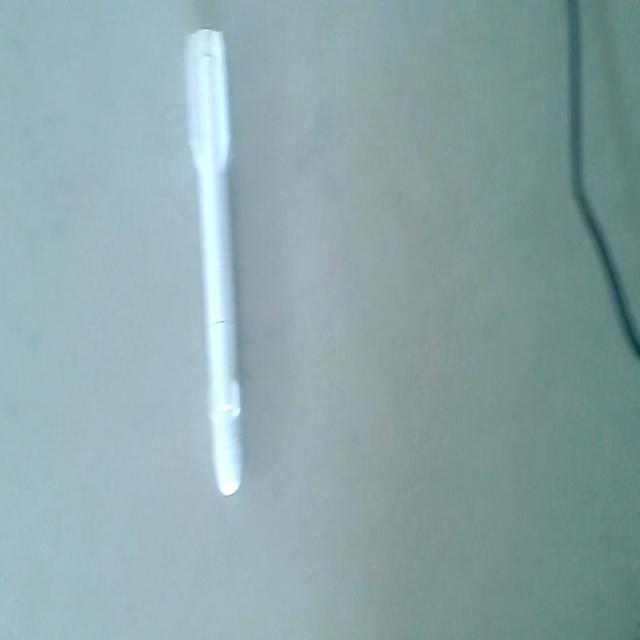Rocket: (182, 21, 246, 500)
